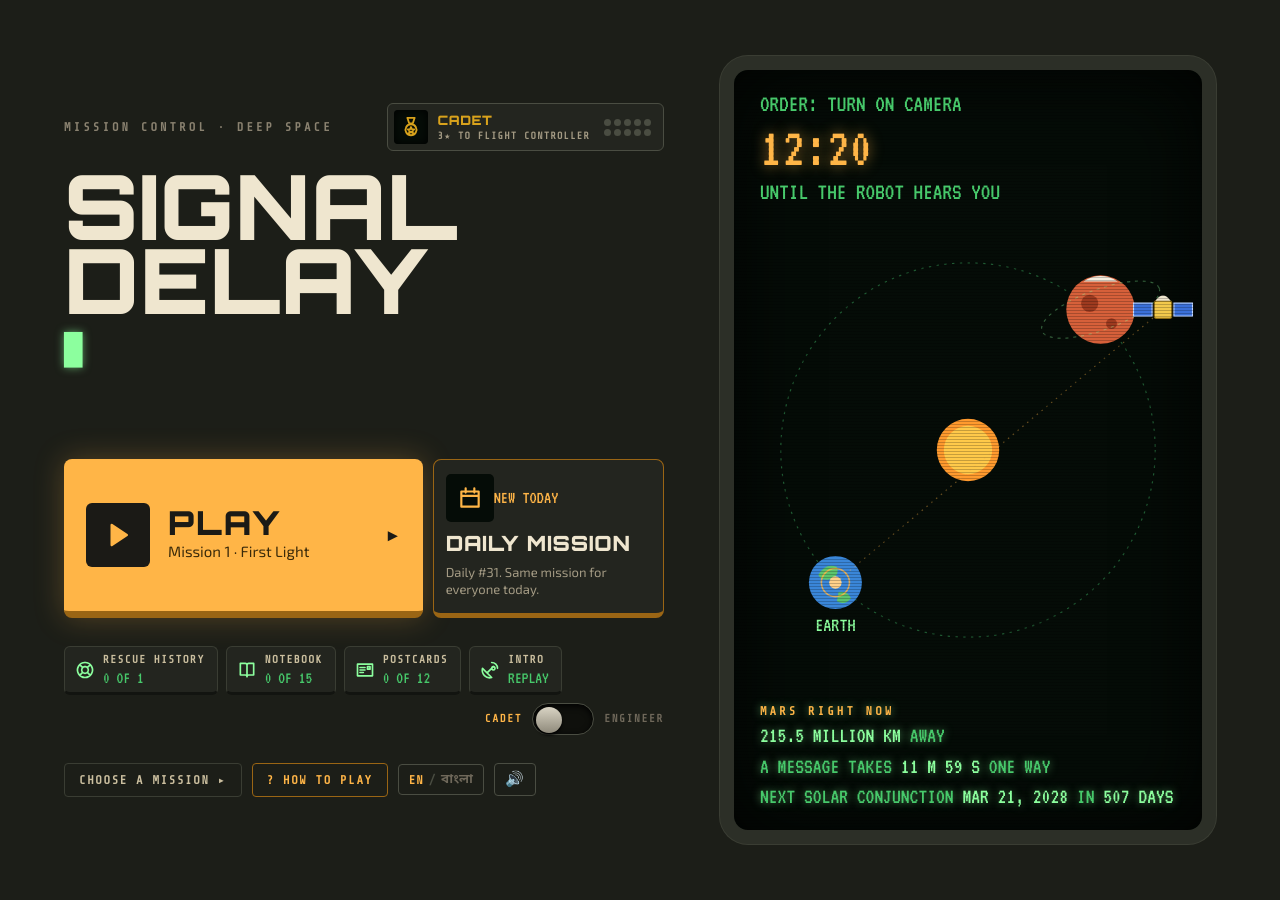
Test: Pack: briefing and launch checklist › the briefing opens the first time a level is played, and not the second time
Click the button with aria-label "Play: mission" at coordinates (243, 538), box [64,459,423,618]
Wait 100 ms
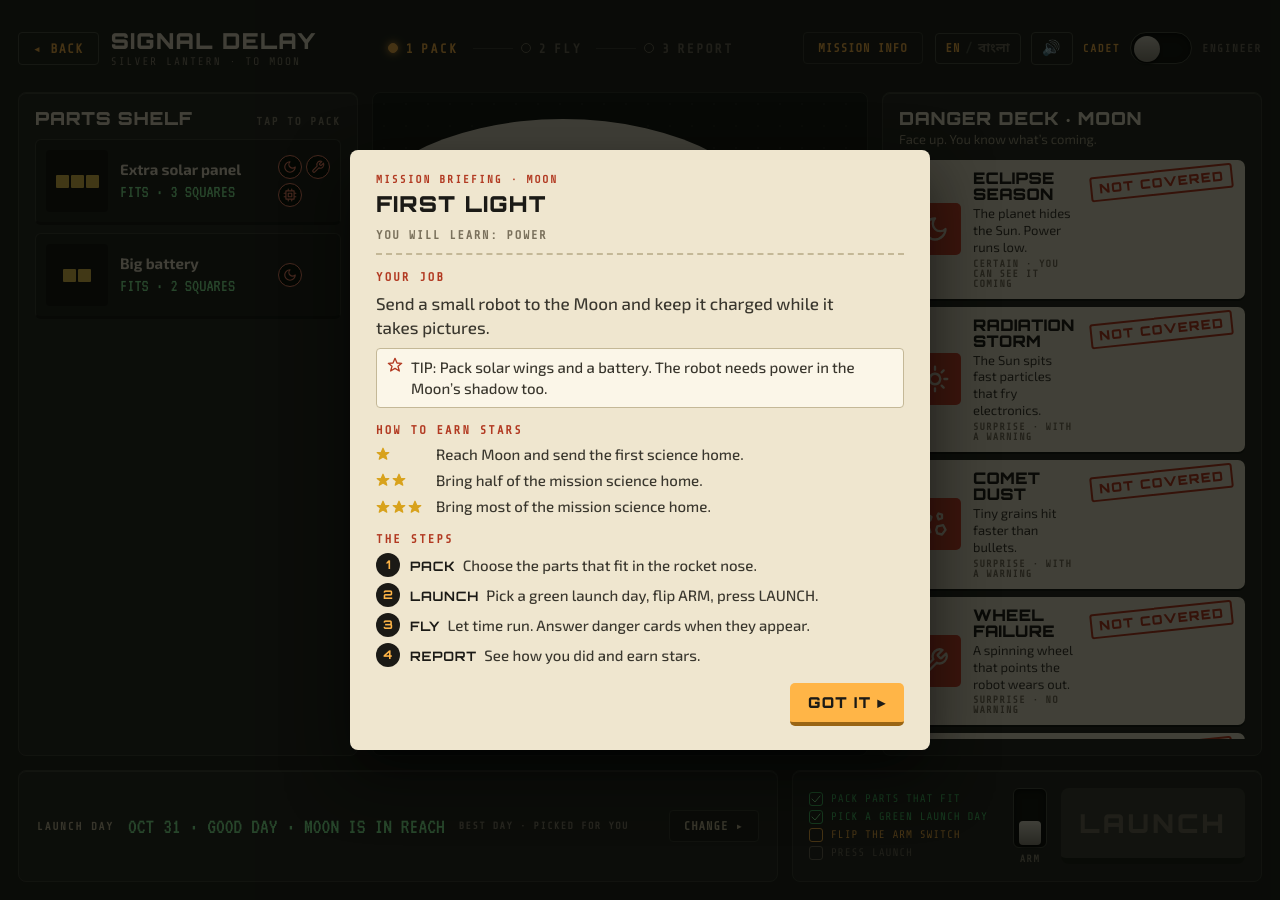
Check: the text "Send a small robot to the Moon and keep it charged while it takes pictures." is shown, box [376,291,904,340]
Click the button "GOT IT ▸" at coordinates (847, 704), box [790,683,904,726]
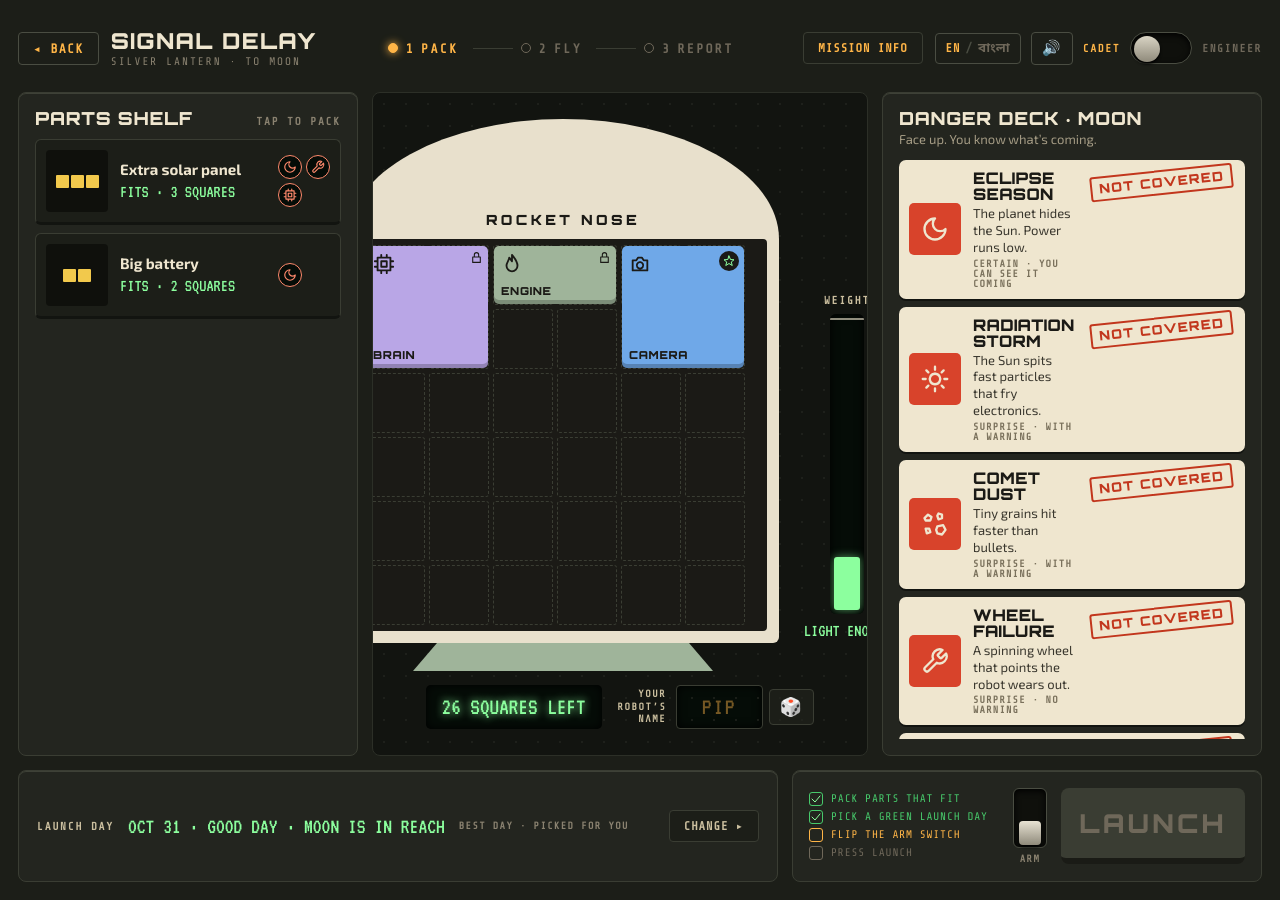
Check: the text "MISSION BRIEFING" is gone
Click the button "◂ BACK" at coordinates (58, 48), box [18,32,99,64]
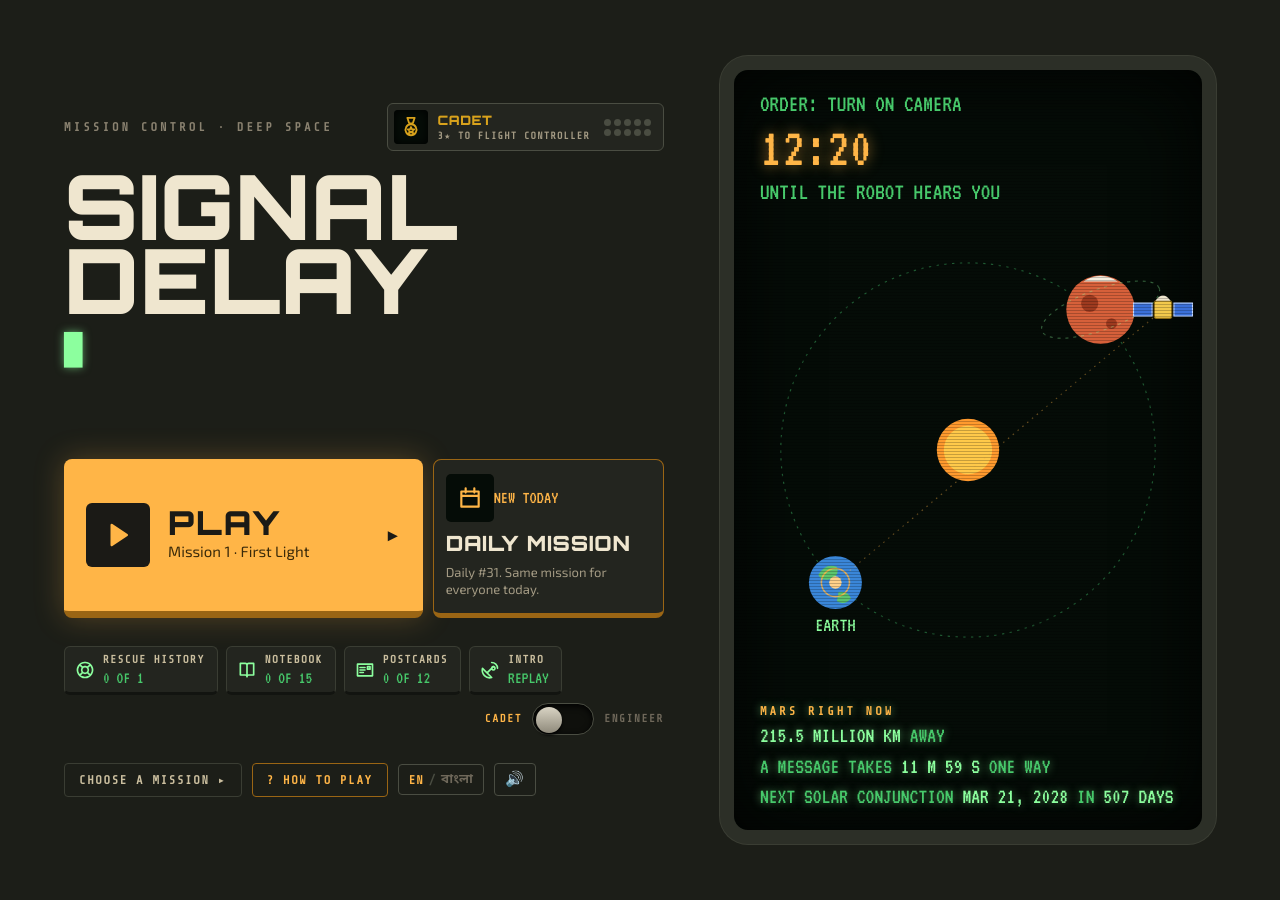
Click the button with aria-label "Play: mission" at coordinates (243, 538), box [64,459,423,618]
Wait 100 ms
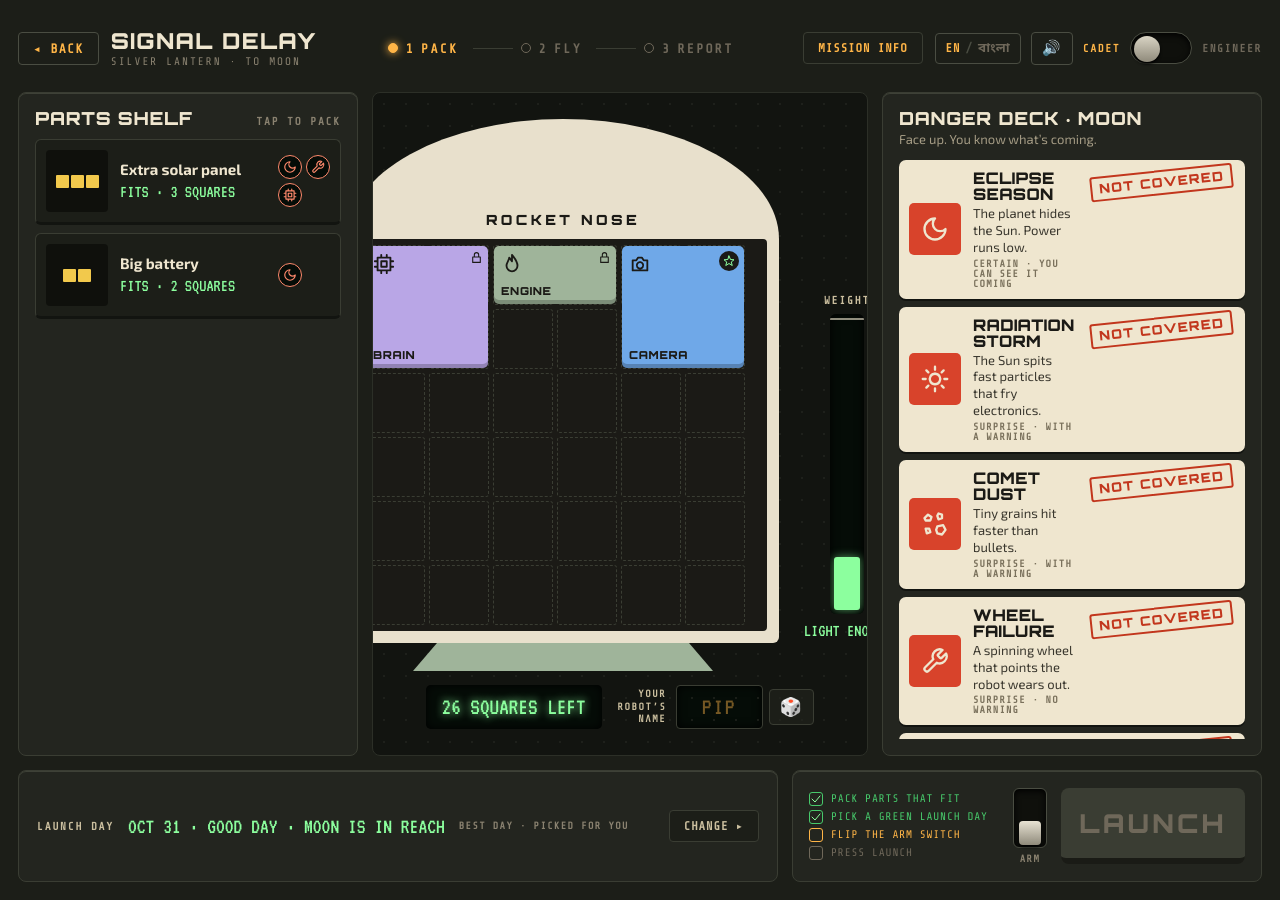
Check: the text "MISSION BRIEFING" is not shown
Note: MISSION INFO brings it back
Click the button "MISSION INFO" at coordinates (863, 48), box [803,32,923,64]
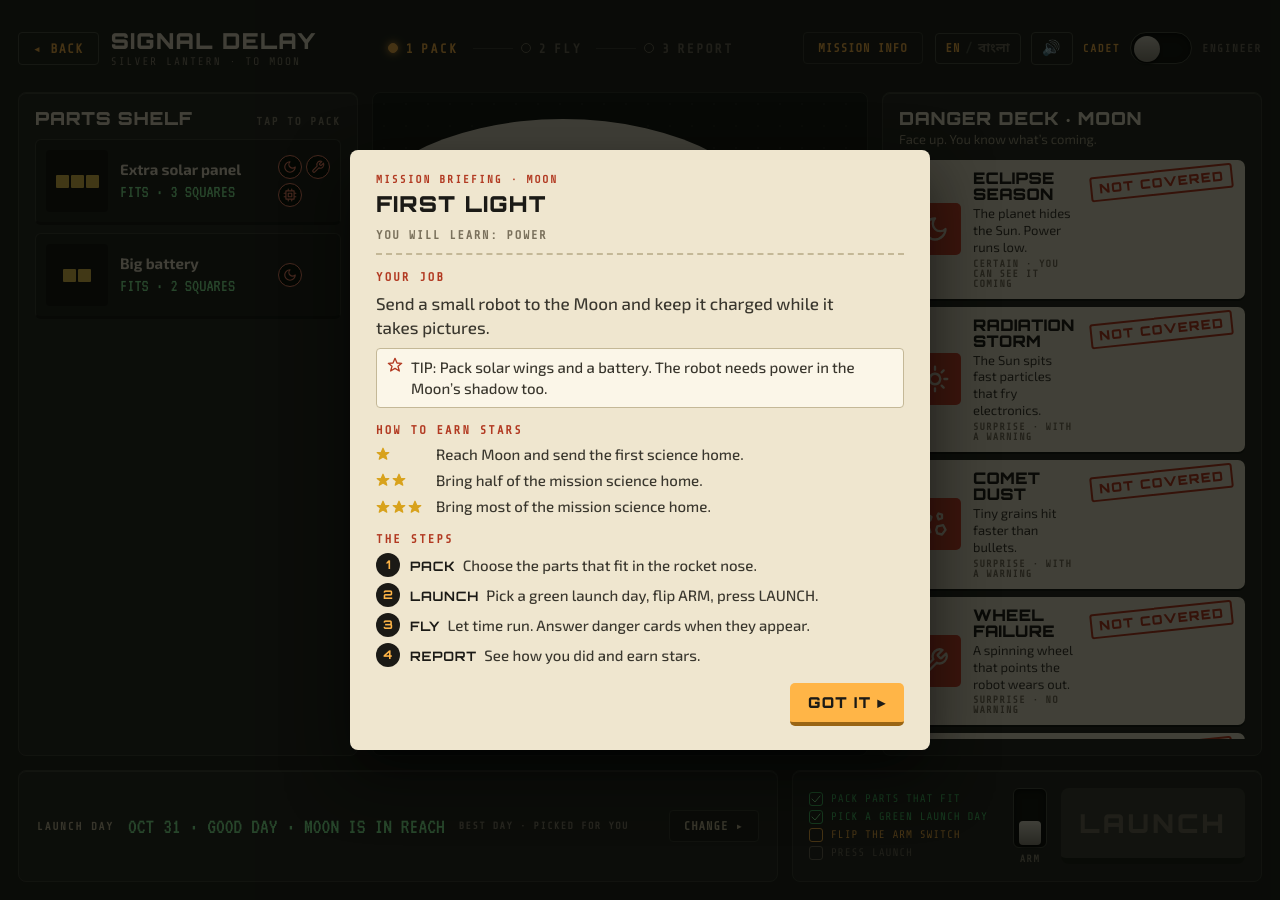
Check: the dialog "MISSION BRIEFING" is shown
